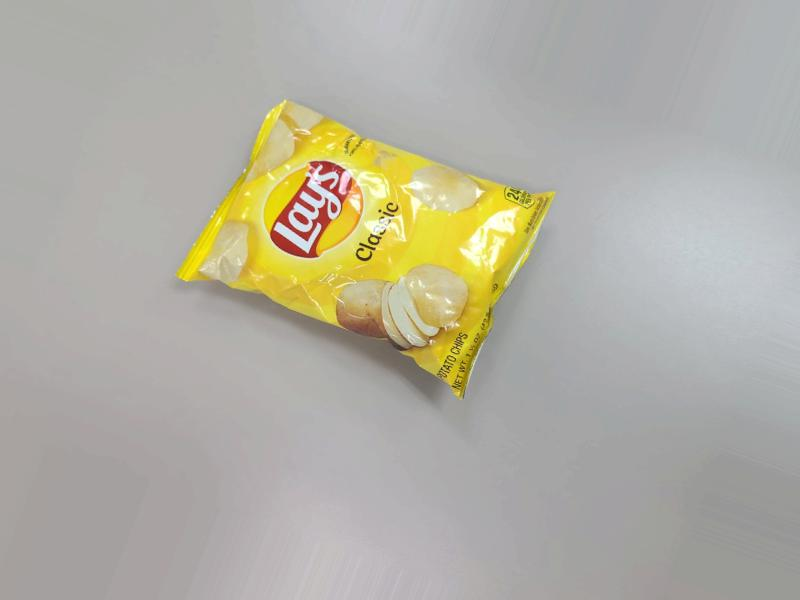lays: (167, 80, 534, 413)
